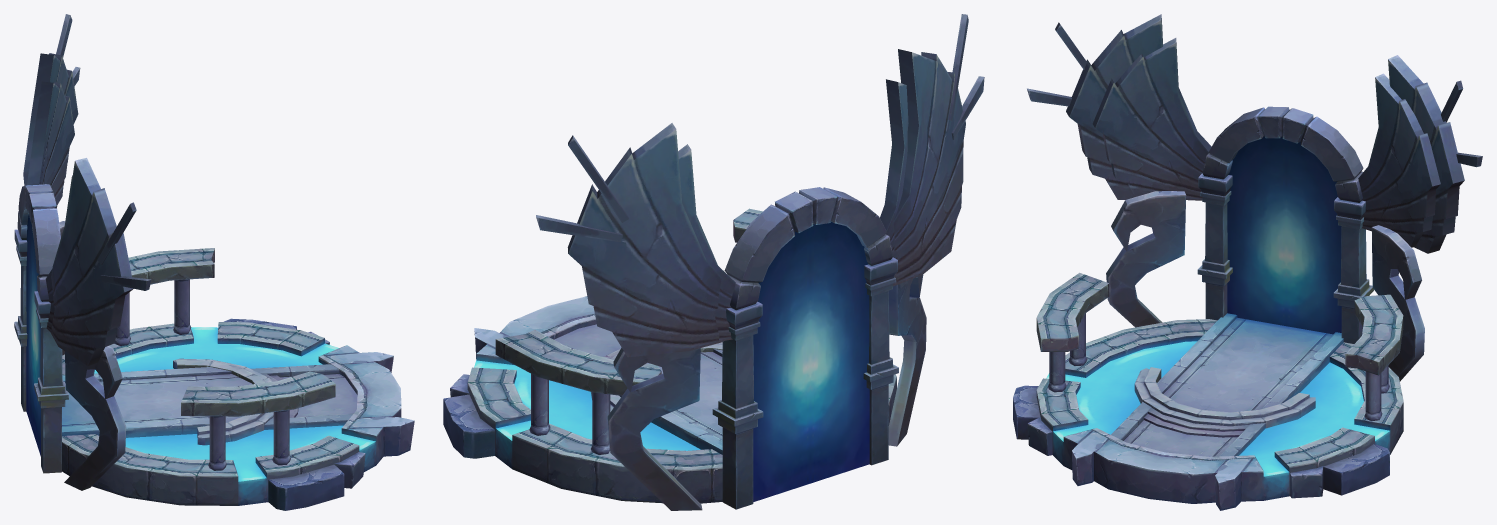
Rendered from gonghui_shuichi_01 #48650420.fbx.
3 renders of one model, left to right at view 1: azimuth 30°, elevation 25°; view 2: azimuth 150°, elevation 25°; view 3: azimuth 270°, elevation 25°, orthographic. The views are drawn at different scales.
Parts seen in each view (by area): view 1: gonghui_shuichi_01; view 2: gonghui_shuichi_01; view 3: gonghui_shuichi_01.
Part boxes in pixels (x1=…): gonghui_shuichi_01: x1=14, y1=14, x2=414, y2=510; gonghui_shuichi_01: x1=443, y1=14, x2=984, y2=510; gonghui_shuichi_01: x1=1013, y1=14, x2=1482, y2=510.
Size of the model in its own units: 4.23 by 3.74 by 4.79.
